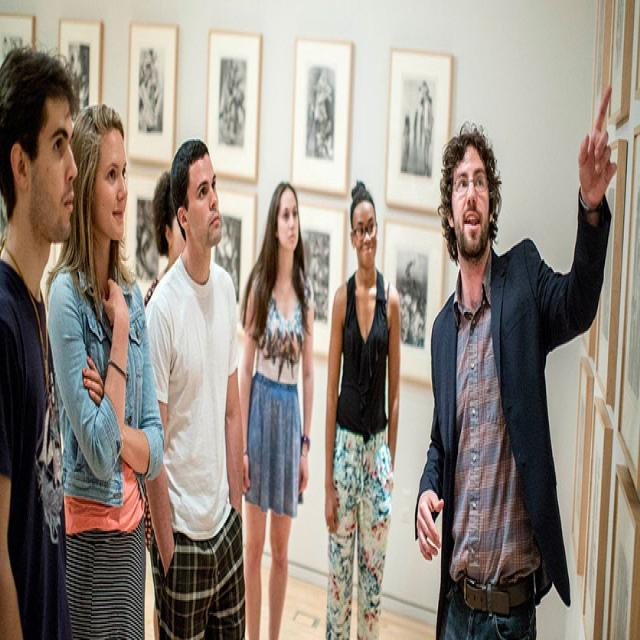body: (6, 8, 433, 350), (410, 79, 622, 638), (39, 93, 168, 638), (143, 137, 247, 640), (0, 37, 85, 638), (229, 172, 318, 638), (317, 173, 404, 638), (140, 163, 188, 640)
